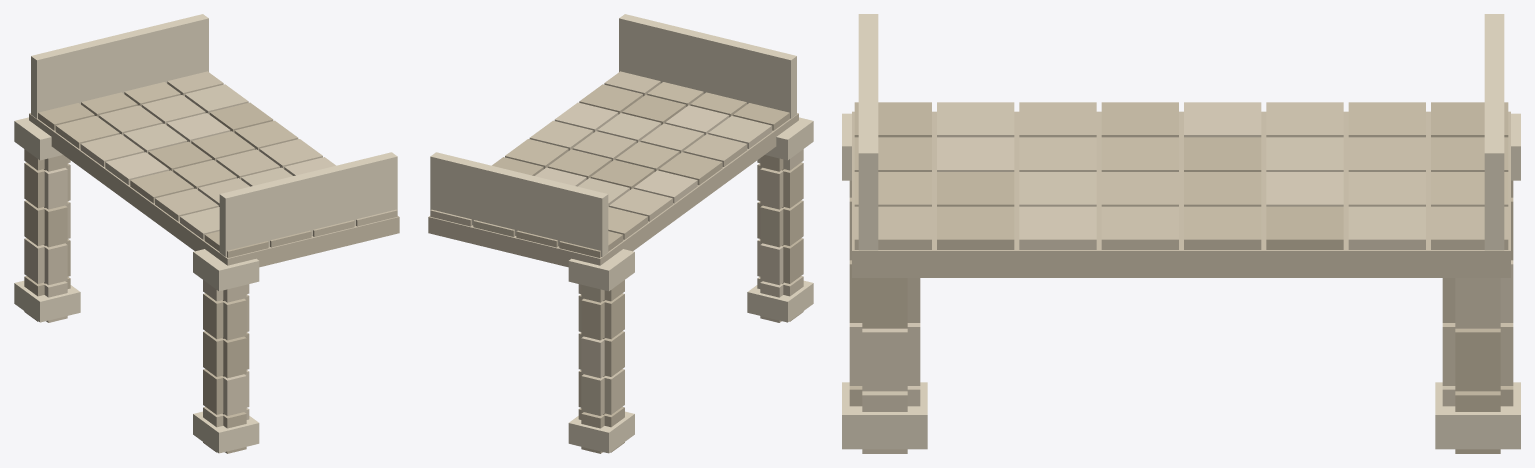
The picture shows the model from 3 angles, left to right: view 1: azimuth 30°, elevation 25°; view 2: azimuth 150°, elevation 25°; view 3: azimuth 270°, elevation 25°; orthographic projection. The views are drawn at different scales.
Visible parts, largest first — view 1: Bergfried – Steine, Säulen, Ziegel und Feuerstelle; view 2: Bergfried – Steine, Säulen, Ziegel und Feuerstelle; view 3: Bergfried – Steine, Säulen, Ziegel und Feuerstelle.
Boxes of the visible parts, left/top/right/bottom form: Bergfried – Steine, Säulen, Ziegel und Feuerstelle: left=14, top=14, right=399, bottom=453; Bergfried – Steine, Säulen, Ziegel und Feuerstelle: left=428, top=14, right=813, bottom=453; Bergfried – Steine, Säulen, Ziegel und Feuerstelle: left=842, top=14, right=1520, bottom=453.
Bounding box in the file's own units: 214 × 282 × 412.
